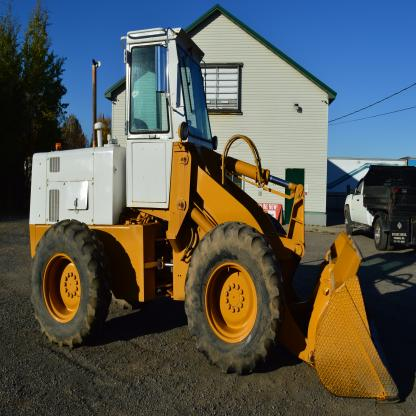bull_dozer/loader/grader: (17, 17, 411, 408)
